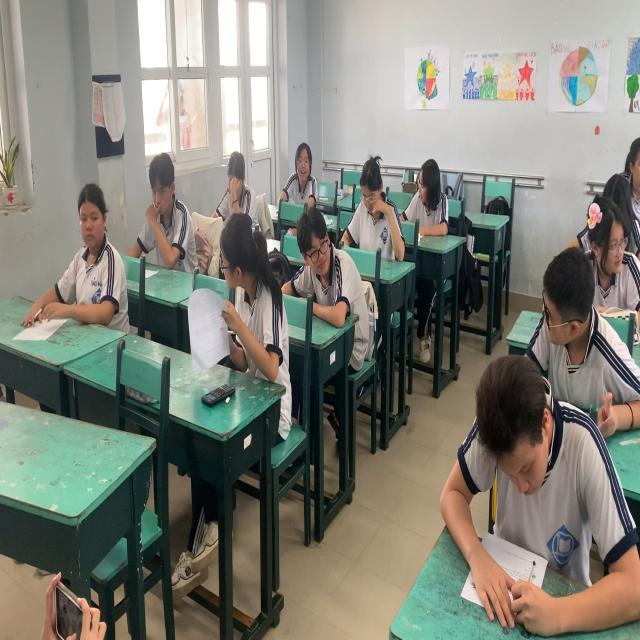cheating: (500, 181, 600, 381), (202, 161, 277, 406), (36, 184, 132, 356), (300, 195, 362, 374), (124, 134, 192, 284), (279, 114, 330, 217), (395, 144, 443, 241)
not_cheating: (414, 300, 598, 596), (532, 120, 622, 276), (580, 69, 640, 192), (350, 139, 401, 267), (208, 131, 254, 232)
